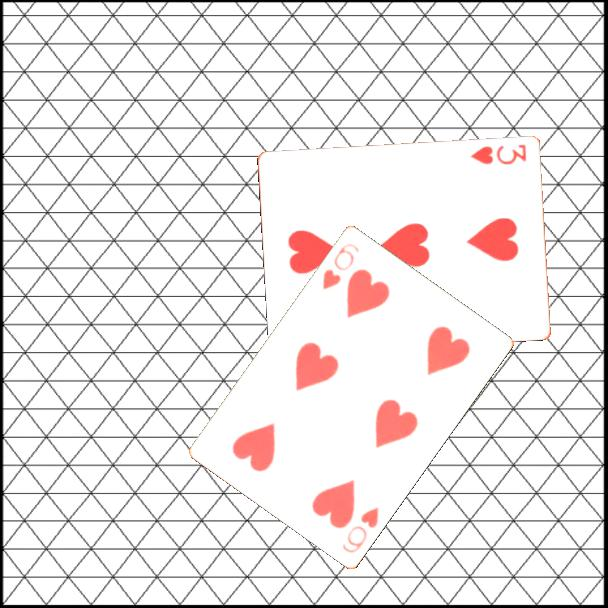h03: (467, 140, 530, 167)
h06: (319, 239, 362, 292), (339, 503, 382, 556)
